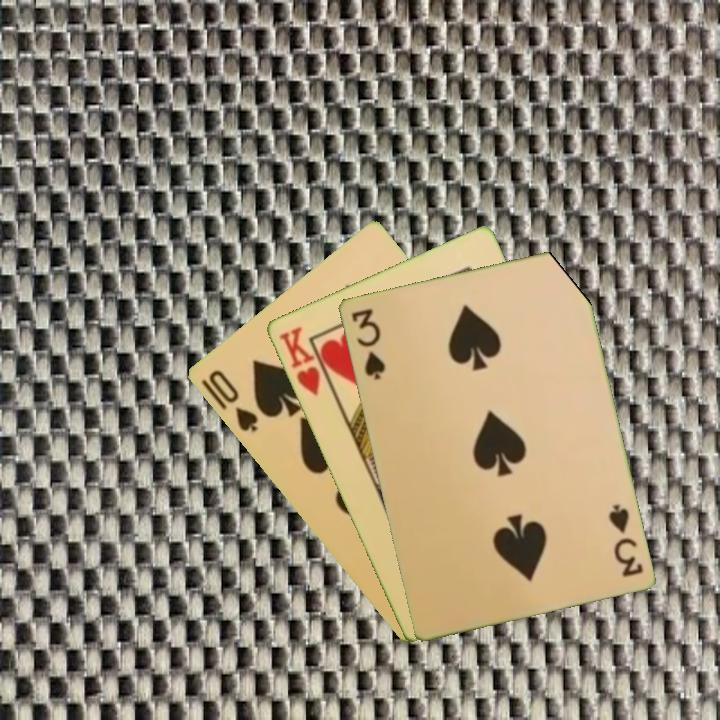10s: (204, 366, 260, 435)
3s: (604, 500, 646, 580), (347, 304, 388, 383)
Kh: (275, 322, 335, 399)
